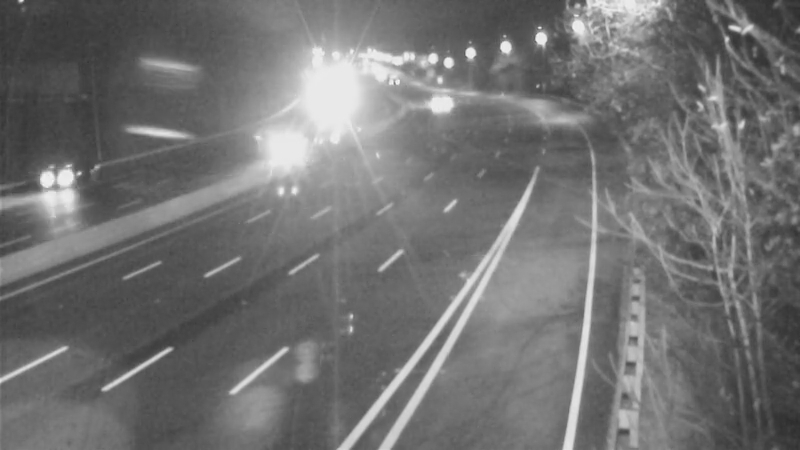vehicle: (19, 137, 99, 217), (246, 111, 326, 191), (364, 58, 414, 108), (410, 80, 460, 130)
